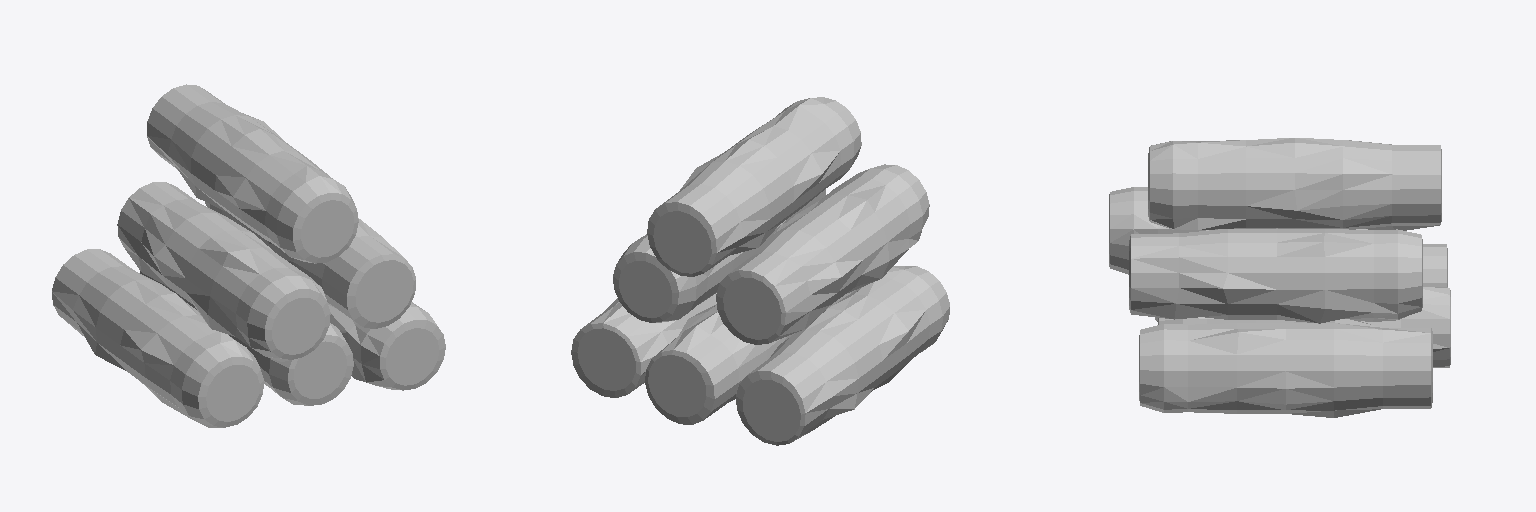
Rendered from Wood.obj.
3 views of the same model, side by side, from view 1: azimuth 30°, elevation 25°; view 2: azimuth 150°, elevation 25°; view 3: azimuth 270°, elevation 25° (orthographic).
Visible parts, largest first — view 1: Wood.004_Cylinder.009, Wood.005_Cylinder.010, Wood_Cylinder, Wood.003_Cylinder.008, Wood.002_Cylinder.007, Wood.001_Cylinder.006; view 2: Wood.004_Cylinder.009, Wood.005_Cylinder.010, Wood_Cylinder, Wood.001_Cylinder.006, Wood.002_Cylinder.007, Wood.003_Cylinder.008; view 3: Wood.003_Cylinder.008, Wood.002_Cylinder.007, Wood.005_Cylinder.010, Wood.001_Cylinder.006, Wood.004_Cylinder.009, Wood_Cylinder.
Part boxes in pixels (x1,y1,x2,y2): Wood.004_Cylinder.009: (117, 182, 330, 361); Wood.005_Cylinder.010: (147, 84, 358, 263); Wood_Cylinder: (52, 249, 263, 427); Wood.003_Cylinder.008: (205, 202, 415, 328); Wood.002_Cylinder.007: (328, 302, 445, 390); Wood.001_Cylinder.006: (140, 271, 353, 405); Wood.004_Cylinder.009: (716, 164, 929, 344); Wood.005_Cylinder.010: (647, 97, 861, 276); Wood_Cylinder: (736, 266, 949, 445); Wood.001_Cylinder.006: (645, 290, 855, 424); Wood.002_Cylinder.007: (571, 293, 716, 397); Wood.003_Cylinder.008: (613, 189, 825, 322); Wood.003_Cylinder.008: (1129, 228, 1422, 323); Wood.002_Cylinder.007: (1139, 319, 1432, 417); Wood.005_Cylinder.010: (1148, 138, 1441, 230); Wood.001_Cylinder.006: (1158, 287, 1450, 367); Wood.004_Cylinder.009: (1109, 187, 1367, 274); Wood_Cylinder: (1155, 244, 1447, 321).
Bounding box in the file's own units: 6.44 × 5.73 × 7.47.